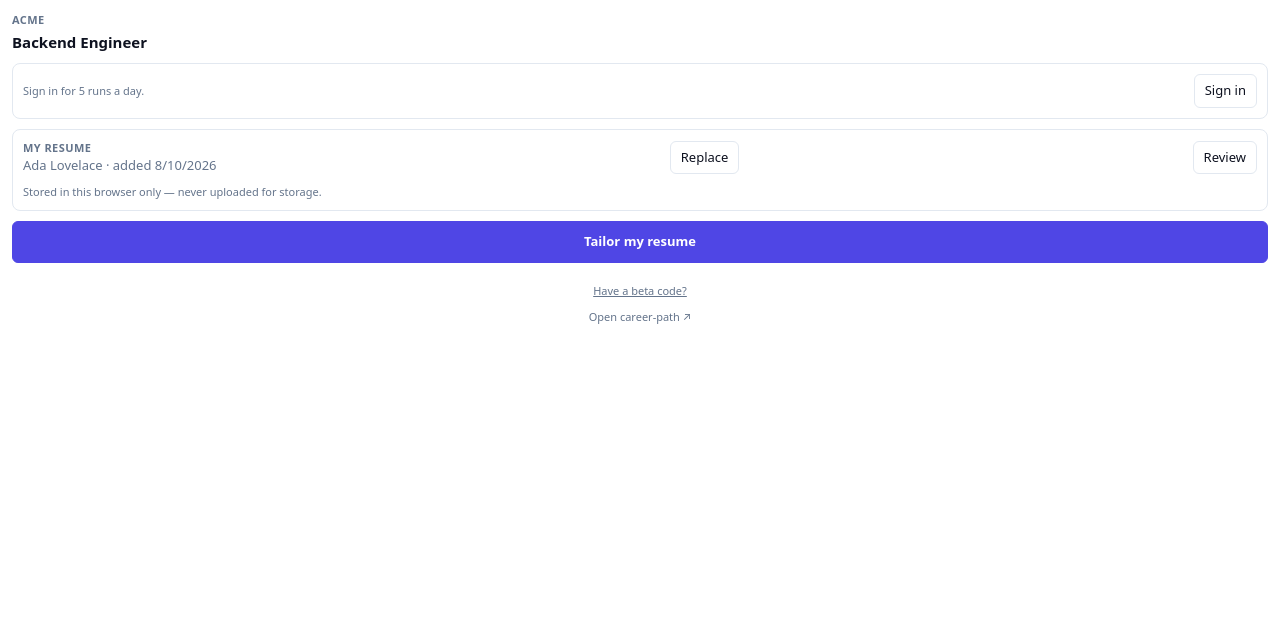
Test: App - saving a tailored resume from the panel › does not render Save when signed out, even with a completed tailored result
Click the button "Tailor my resume": point(640, 242) [12,221,1268,262]
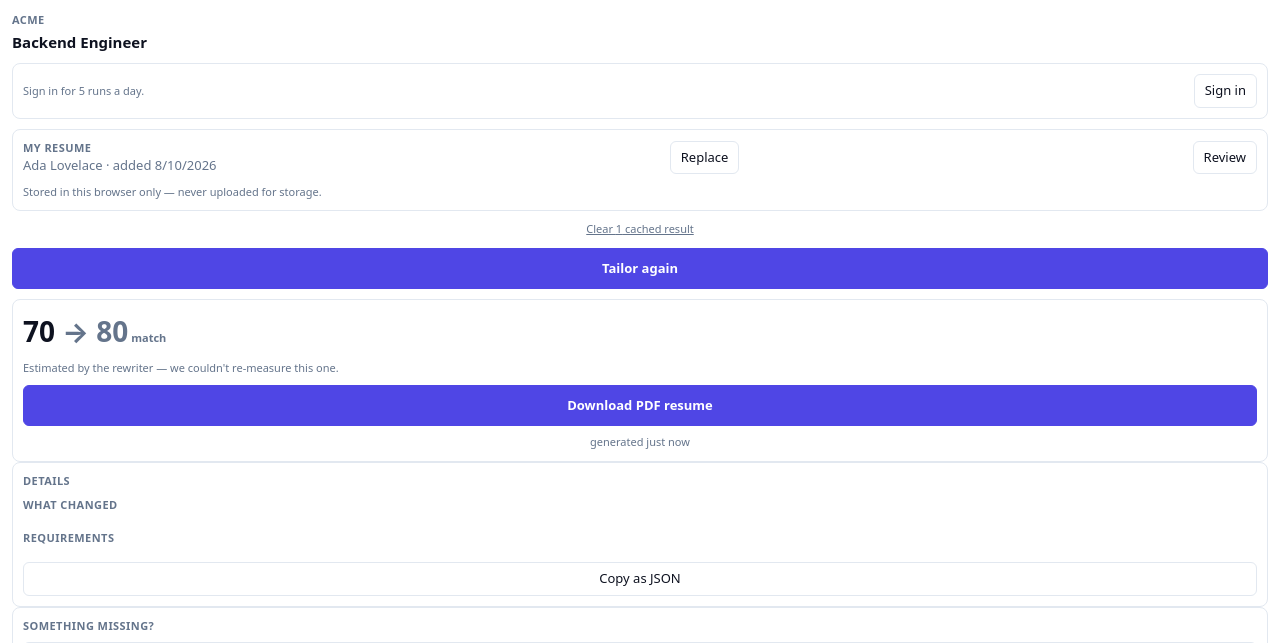
Expected: the button "Download PDF resume" is shown, [23,384,1257,426]
